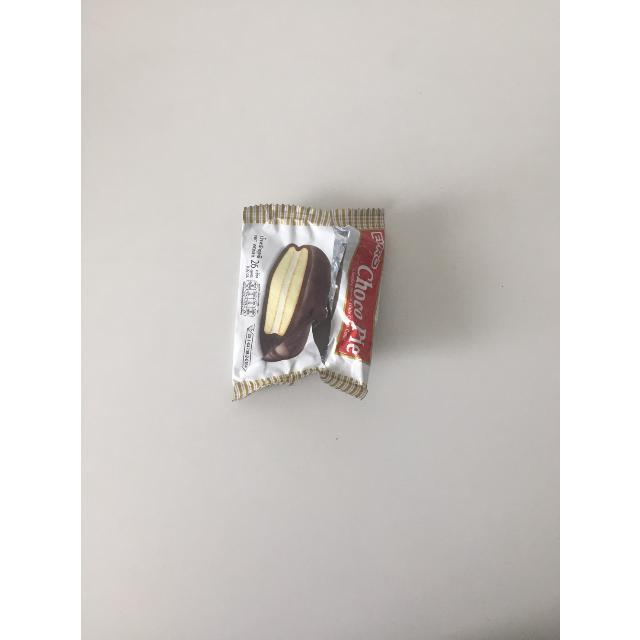Paquete de plastico: (232, 204, 384, 399)
